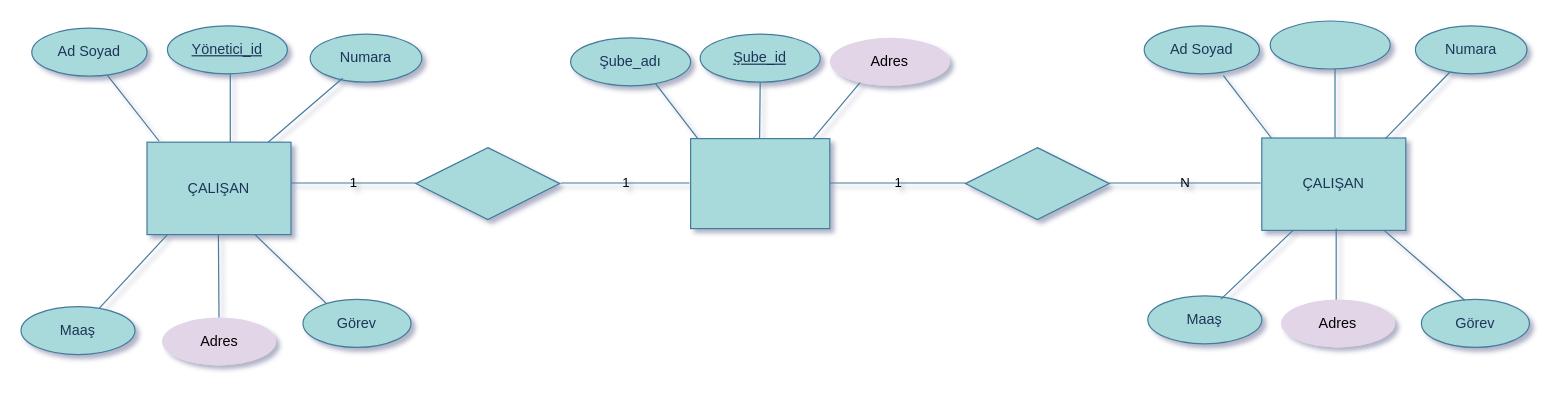
Image size: 1558x394. Some labels were removed from this diagram. Here are the shapes that lost their labels. From the top down, the box of each, then its label:
(1269, 20, 1390, 69): Çalışan_id
(415, 146, 560, 220): Yönetici
(689, 137, 830, 229): ŞUBE
(964, 146, 1109, 220): Çalışır
